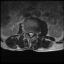CCS_normal: (30, 31, 32, 39)
LFS_severe_stenosis: (34, 31, 36, 36)
LLS_stenosis: (32, 31, 34, 36)
RFS_stenosis: (26, 29, 28, 35)
RLS_stenosis: (28, 30, 30, 37)
